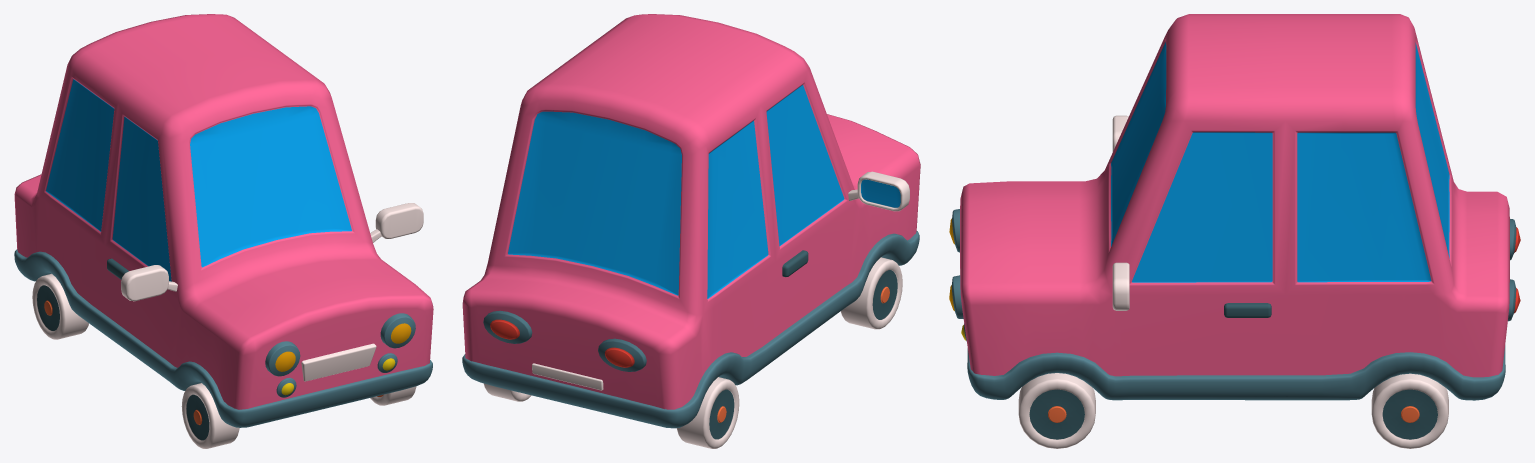
File: Town_5_Car_1.glb
3 renders of one model, left to right at view 1: azimuth 30°, elevation 25°; view 2: azimuth 150°, elevation 25°; view 3: azimuth 270°, elevation 25°, orthographic. The views are drawn at different scales.
Parts seen in each view (by area): view 1: Town_5_Car_1; view 2: Town_5_Car_1; view 3: Town_5_Car_1.
Part boxes in pixels (x1=…): Town_5_Car_1: x1=14, y1=14, x2=433, y2=448; Town_5_Car_1: x1=462, y1=14, x2=920, y2=448; Town_5_Car_1: x1=949, y1=14, x2=1520, y2=448.
Bounding box in the file's own units: 2.98 × 2.81 × 4.19.
Materials: 1 (1 with a texture image).
